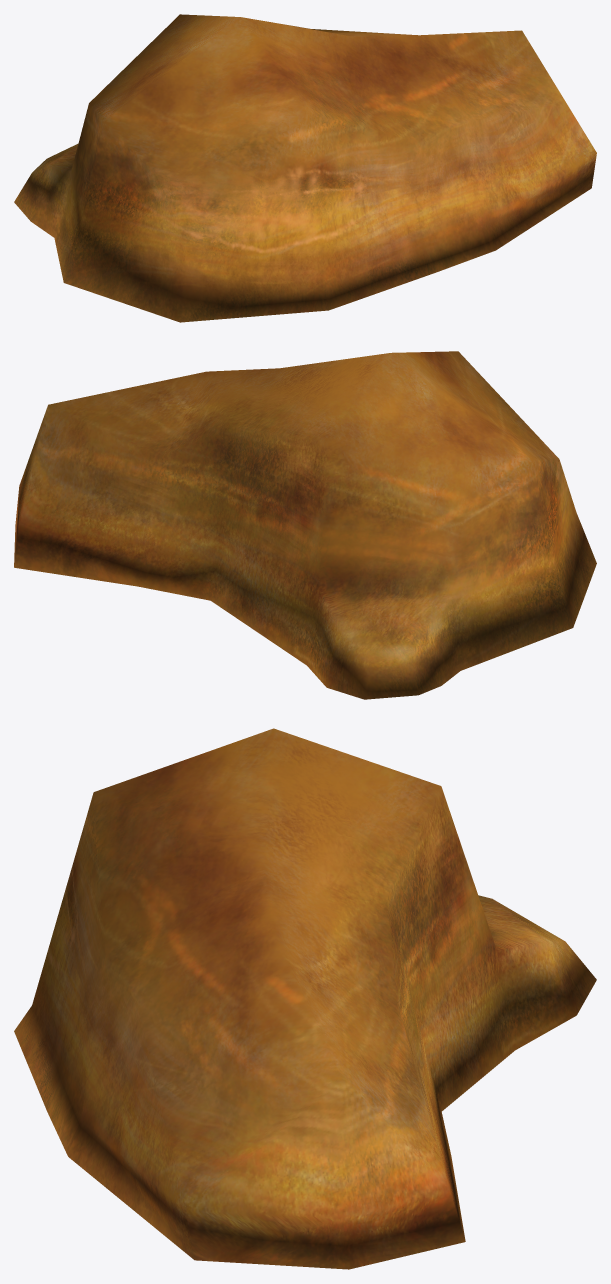
Rendered from Rock_100cm.fbx.
3 renders of one model, top to bottom at view 1: azimuth 30°, elevation 25°; view 2: azimuth 150°, elevation 25°; view 3: azimuth 270°, elevation 25°, orthographic. The views are drawn at different scales.
Visible parts, largest first — view 1: pCube1; view 2: pCube1; view 3: pCube1.
Part boxes in pixels (<box>): pCube1: <box>14,14,596,322</box>; pCube1: <box>14,351,596,699</box>; pCube1: <box>14,728,596,1269</box>.
Size of the model in its own units: 191 by 95.39 by 137.
1 material, 1 textured.
